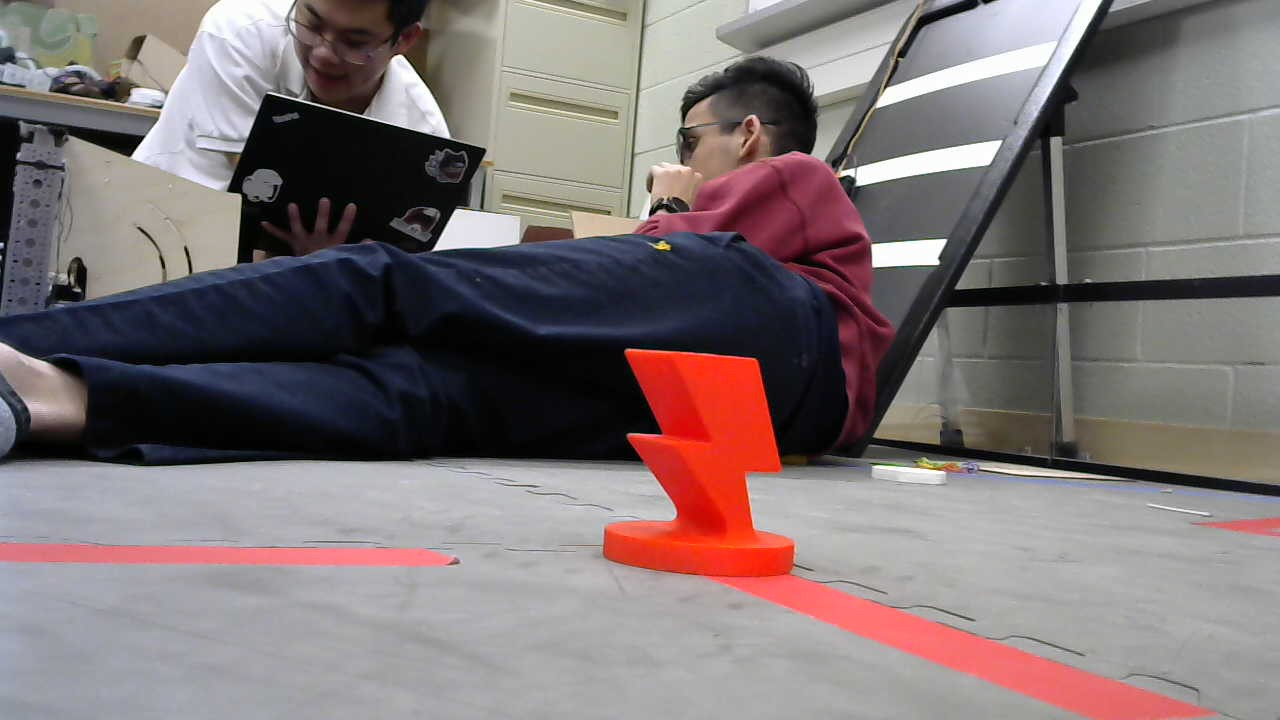redobject: (600, 347, 799, 575)
